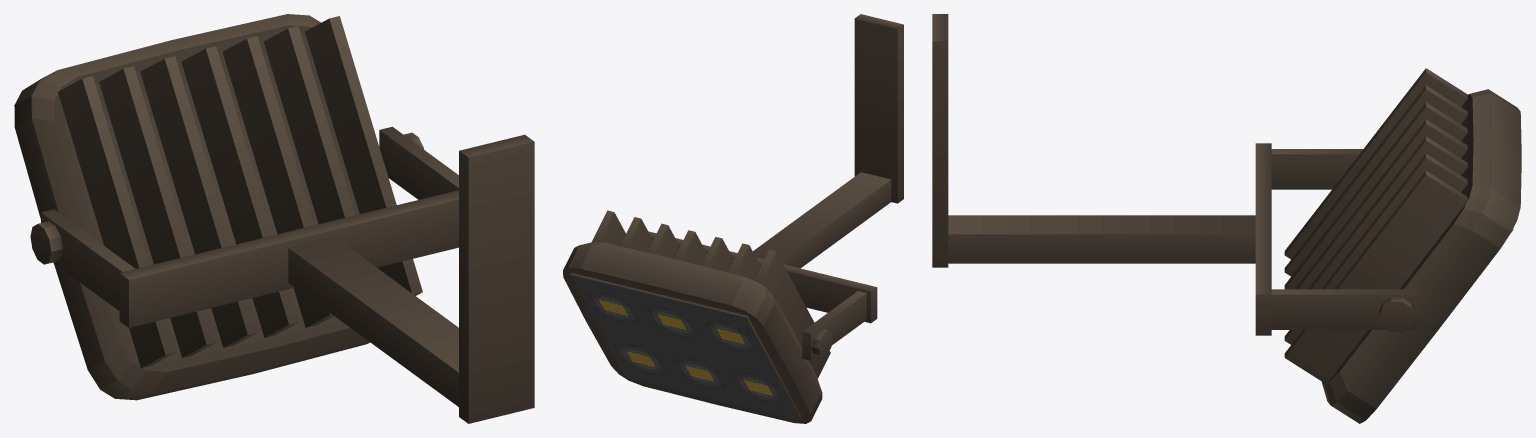
The model's file is floodlight_geefmyk_x.obj.
The picture shows the model from 3 angles, left to right: view 1: azimuth 30°, elevation 25°; view 2: azimuth 150°, elevation 25°; view 3: azimuth 270°, elevation 25°; orthographic projection. The views are drawn at different scales.
Parts seen in each view (by area): view 1: fixture; view 2: fixture; view 3: fixture.
Part boxes in pixels (x1,y1,x2,y2): fixture: [14, 14, 534, 423]; fixture: [563, 14, 903, 423]; fixture: [932, 14, 1521, 423].
Bounding box in the file's own units: 0.7107 × 0.7375 × 1.14.
